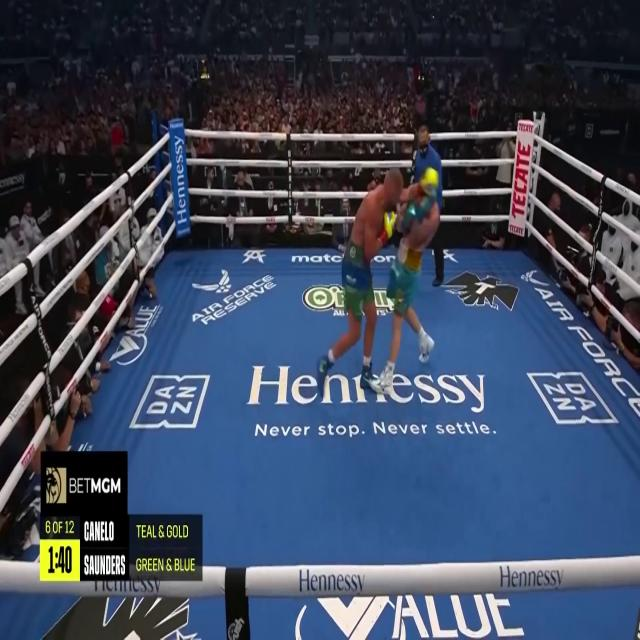boxer_1: (350, 168, 405, 247)
boxer_2: (403, 204, 439, 249)
gloves_1: (378, 210, 396, 248), (418, 167, 437, 197)
gloves_2: (401, 192, 436, 233)
